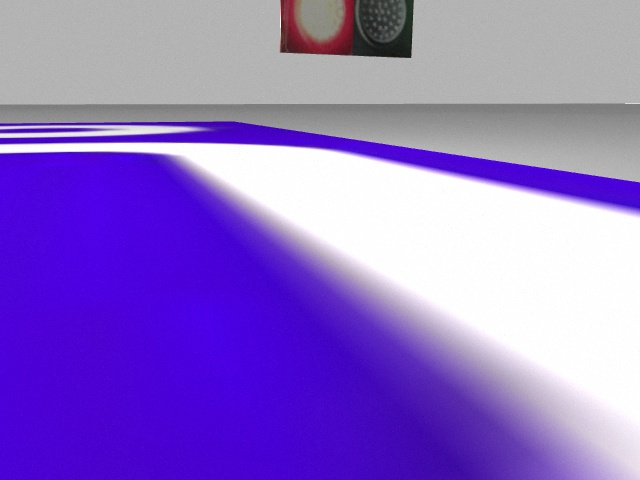red: (278, 1, 353, 55)
